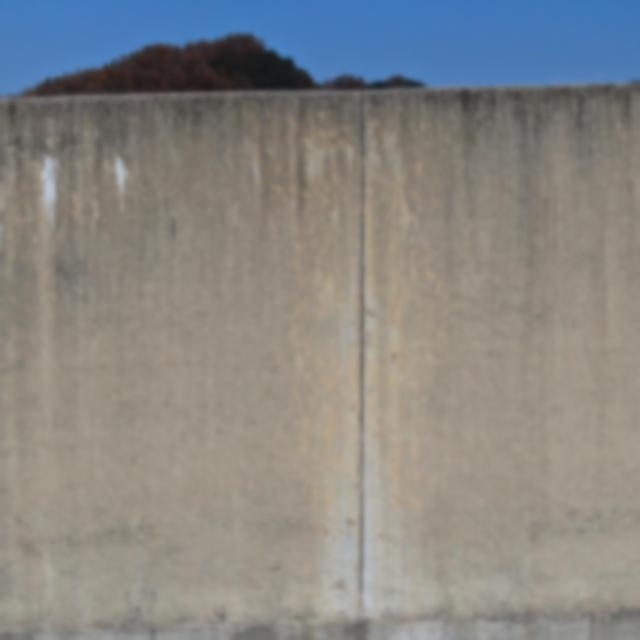SurfaceCrack: (315, 93, 408, 622)
